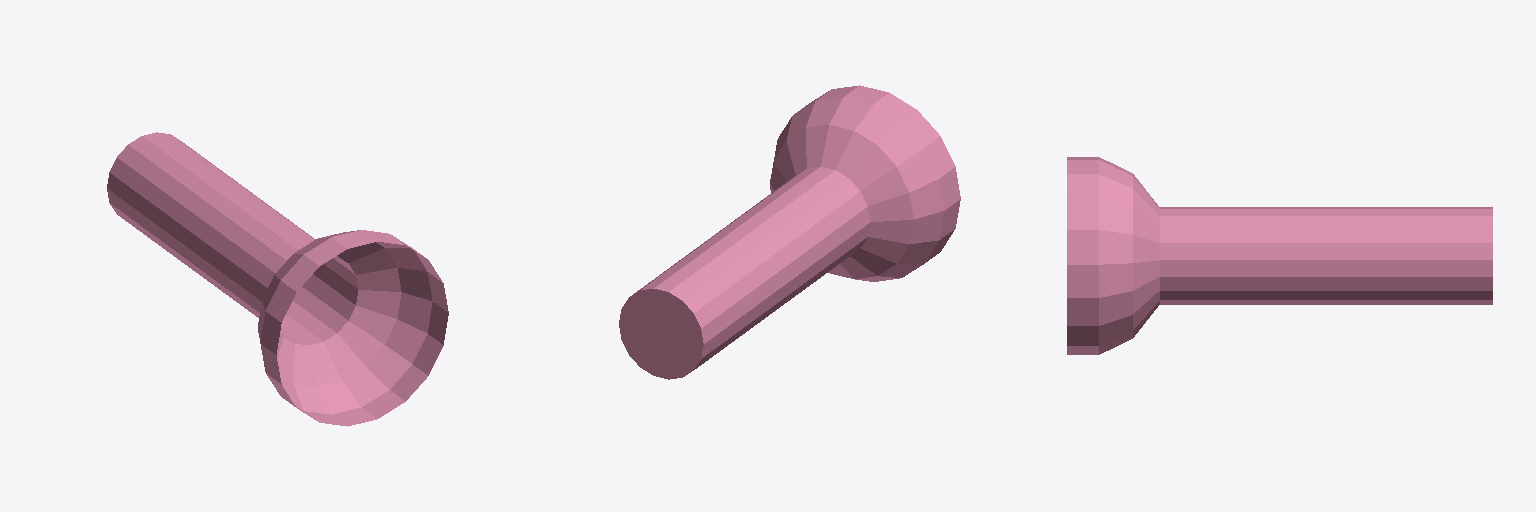
File: nexus01.012.obj
3 renders of one model, left to right at view 1: azimuth 30°, elevation 25°; view 2: azimuth 150°, elevation 25°; view 3: azimuth 270°, elevation 25°, orthographic.
Parts seen in each view (by area): view 1: nexus01.012; view 2: nexus01.012; view 3: nexus01.012.
Boxes of the visible parts, x1=… form: nexus01.012: x1=107, y1=132, x2=448, y2=426; nexus01.012: x1=619, y1=85, x2=960, y2=379; nexus01.012: x1=1067, y1=157, x2=1492, y2=354.
Bounding box in the file's own units: 0.4712 × 0.4641 × 1.01.